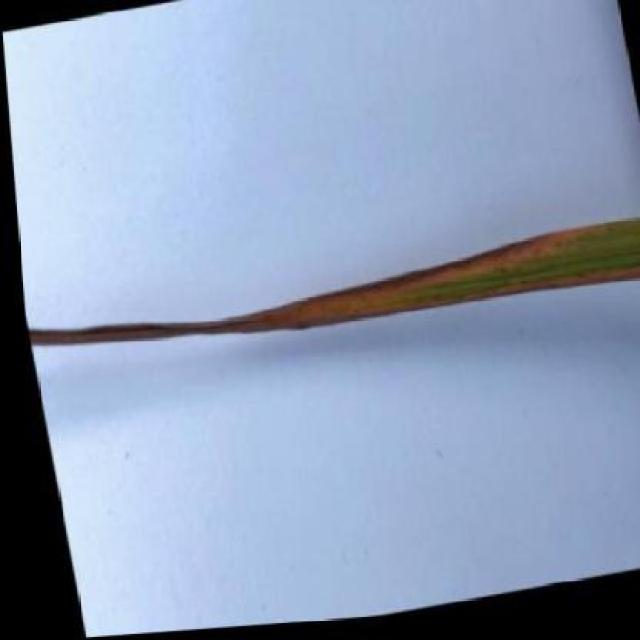Rice False Smut: (17, 222, 640, 393)
